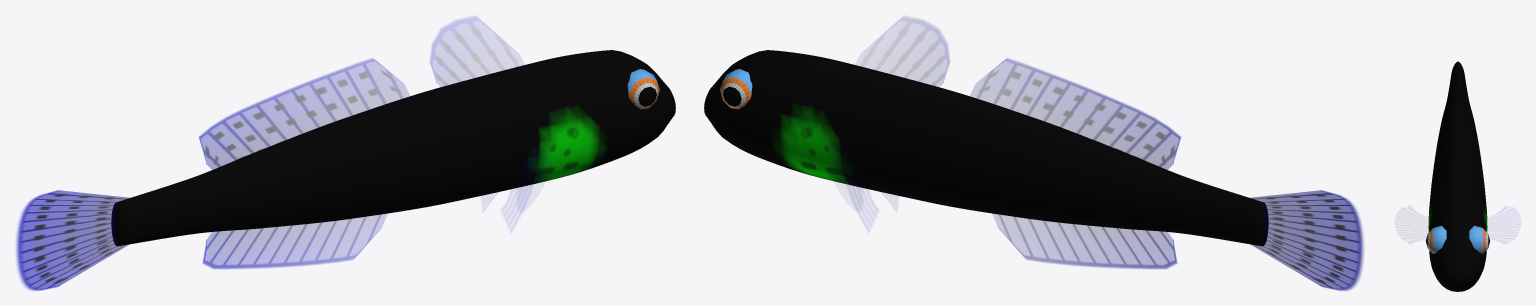
Rendered from diamond_goby.glb.
3 views of the same model, side by side, from view 1: azimuth 30°, elevation 25°; view 2: azimuth 150°, elevation 25°; view 3: azimuth 270°, elevation 25° (orthographic). The views are drawn at different scales.
Parts seen in each view (by area): view 1: Body, FinDorsal2, FinCaudal, FinAnal, FinDorsal, EyeR; view 2: Body, FinDorsal2, FinCaudal, FinAnal, FinDorsal, EyeL; view 3: Body, EyeL, EyeR.
Boxes of the visible parts, box(x1,y1,x2,y2) form: Body: box(111, 50, 675, 246); FinDorsal2: box(199, 58, 410, 170); FinCaudal: box(16, 190, 130, 290); FinAnal: box(203, 214, 386, 268); FinDorsal: box(430, 17, 520, 87); EyeR: box(627, 69, 659, 109); Body: box(704, 50, 1268, 246); FinDorsal2: box(969, 58, 1180, 170); FinCaudal: box(1249, 190, 1363, 290); FinAnal: box(993, 214, 1176, 268); FinDorsal: box(859, 17, 949, 87); EyeL: box(720, 69, 752, 109); Body: box(1428, 61, 1487, 291); EyeL: box(1469, 226, 1489, 253); EyeR: box(1426, 226, 1446, 253).
Size of the model in its own units: 1 by 0.3158 by 0.2355.
4 materials, 3 textured.
